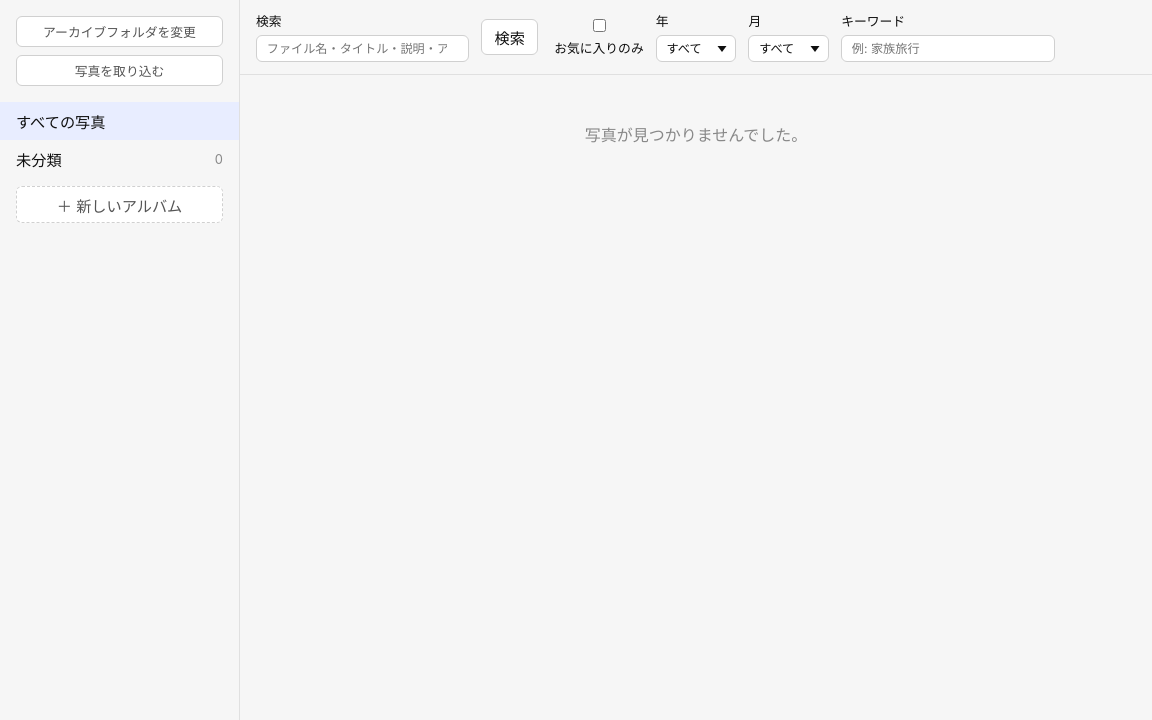
Test: App › opens the import wizard from the sidebar
The width and height of the screenshot is (1152, 720).
What coordinates should you click on to do the following:
click the button "写真を取り込む"
I would click on:
 (120, 71)
Its box is [16,55,223,86].
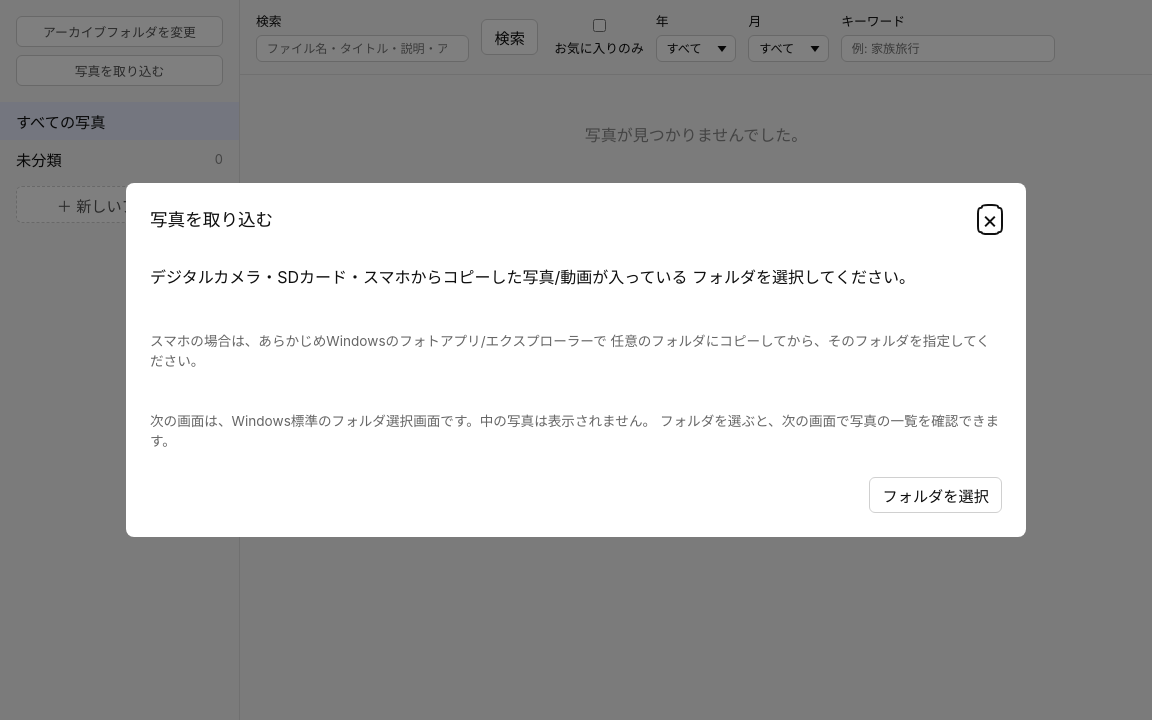
Now the dialog "写真を取り込む" is shown, box [126,183,1026,537]
